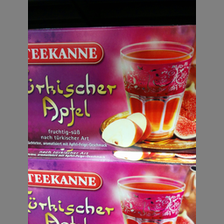tea: (28, 28, 195, 161), (29, 149, 195, 224)
